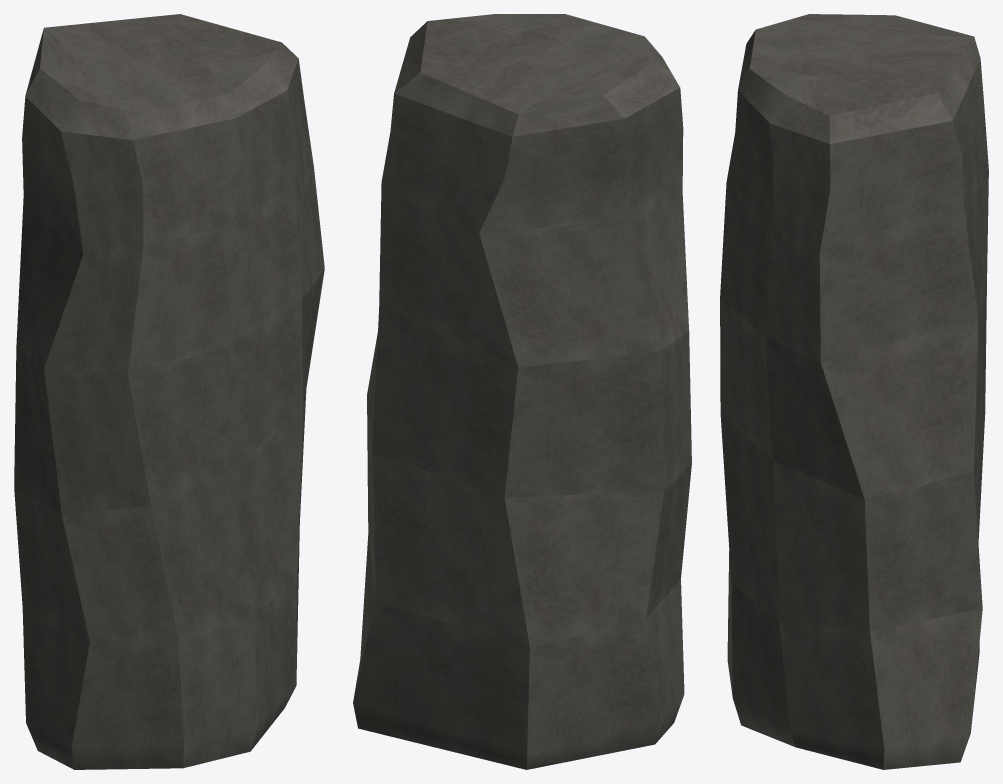
File: ZachMesaRock1.fbx
3 renders of one model, left to right at view 1: azimuth 30°, elevation 25°; view 2: azimuth 150°, elevation 25°; view 3: azimuth 270°, elevation 25°, orthographic. The views are drawn at different scales.
Parts seen in each view (by area): view 1: ZachMesaRock1; view 2: ZachMesaRock1; view 3: ZachMesaRock1.
Part boxes in pixels (x1,y1,x2,y2): ZachMesaRock1: (14,14,324,769); ZachMesaRock1: (353,14,691,769); ZachMesaRock1: (720,14,988,769).
Bounding box in the file's own units: 15.66 × 33.52 × 12.62.
